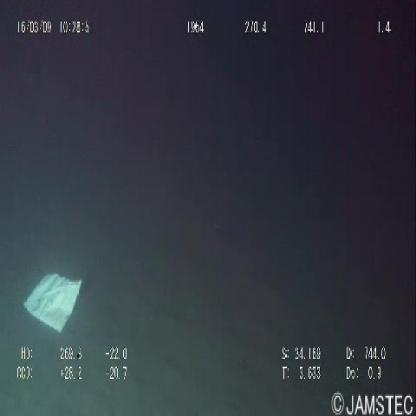Rác: (22, 265, 84, 339)
